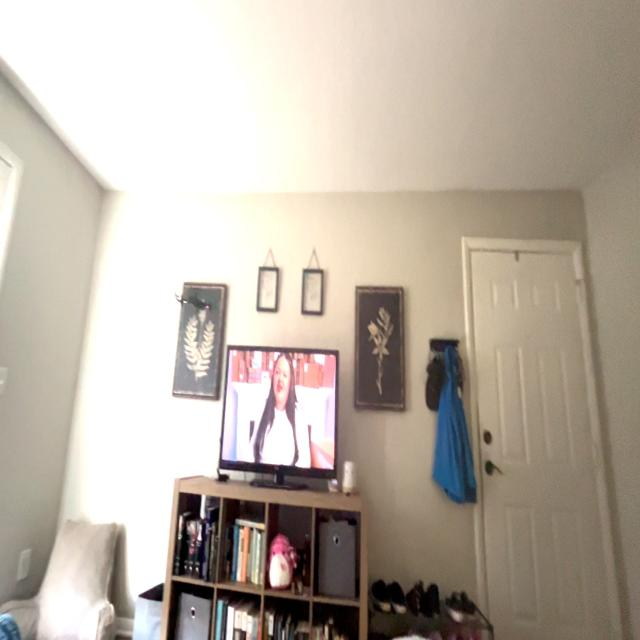drone: (168, 275, 226, 322)
